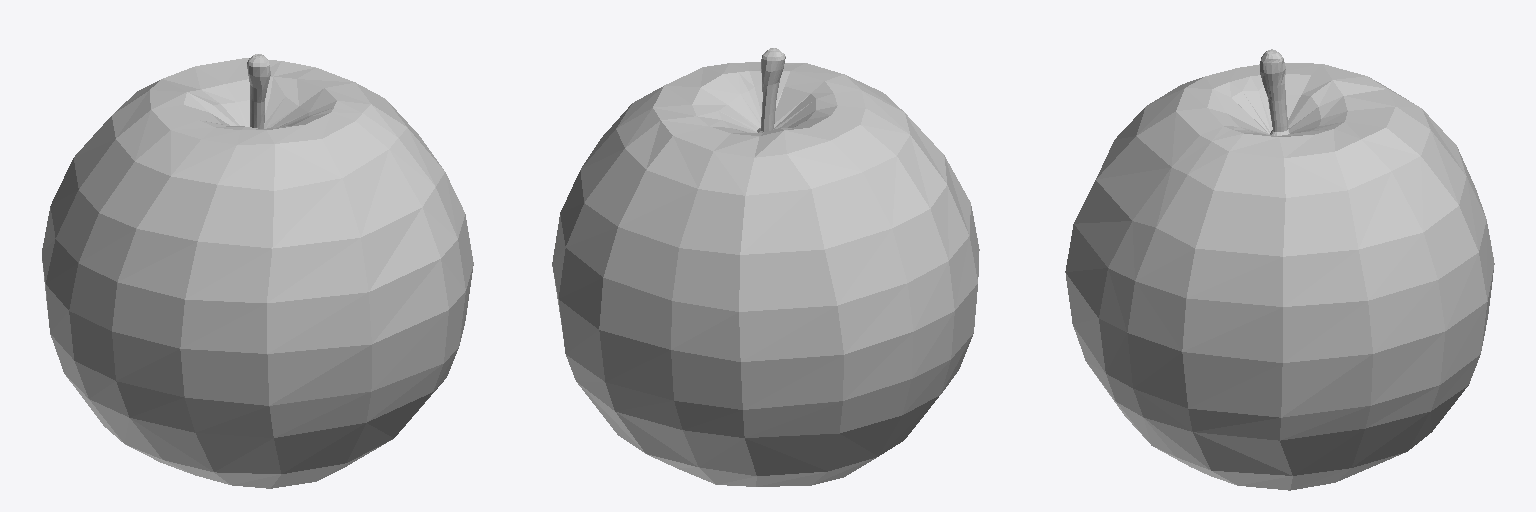
Rendered from apple.obj.
The picture shows the model from 3 angles: view 1: azimuth 30°, elevation 25°; view 2: azimuth 150°, elevation 25°; view 3: azimuth 270°, elevation 25°; orthographic projection.
Parts seen in each view (by area): view 1: apple:Plane001; view 2: apple:Plane001; view 3: apple:Plane001.
Part boxes in pixels (x1,y1,x2,y2): apple:Plane001: (42, 54, 473, 488); apple:Plane001: (552, 48, 979, 486); apple:Plane001: (1065, 49, 1494, 490).
Bounding box in the file's own units: 112 × 117 × 112.